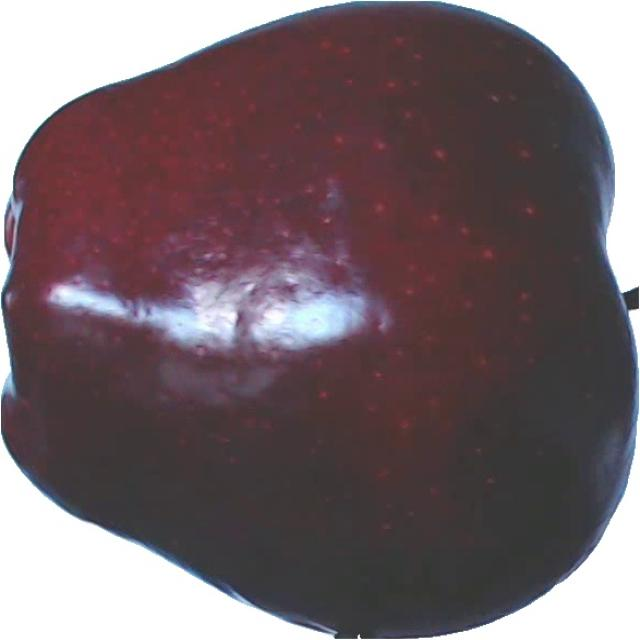Scartlet Spur Elma: (0, 0, 638, 638)
